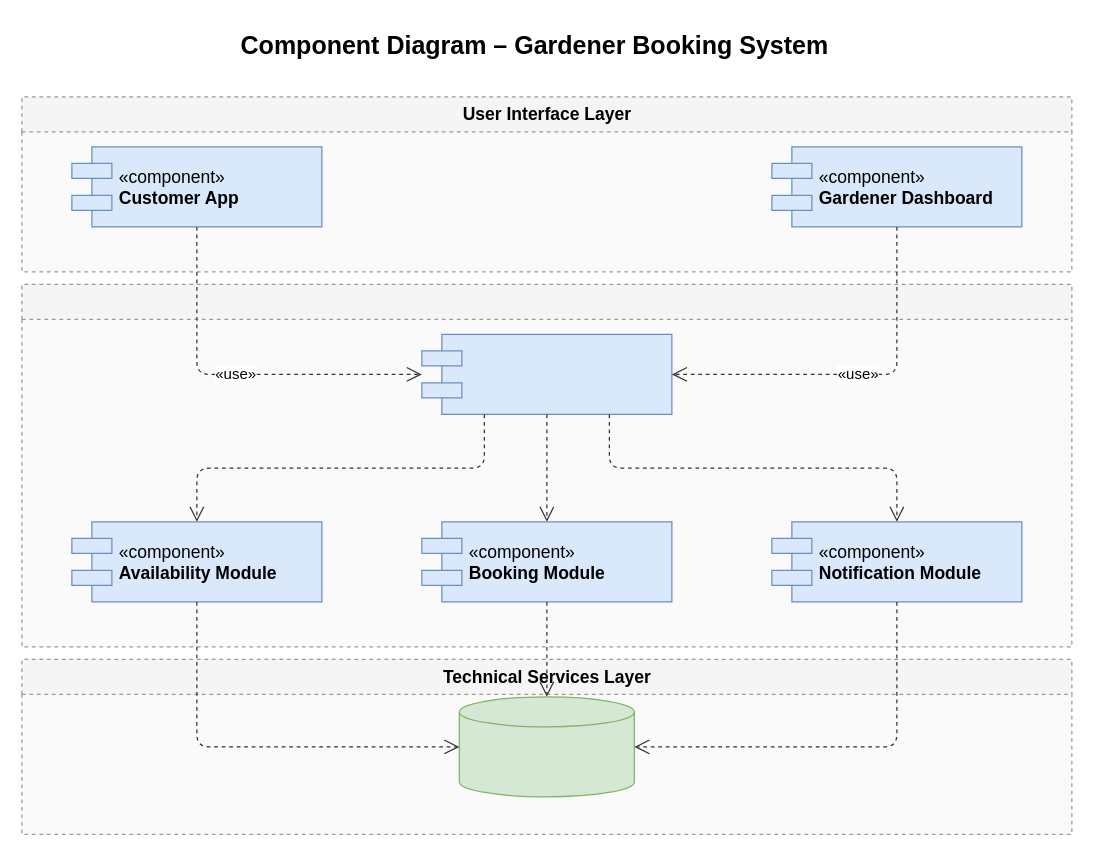
The diagram is 1094 pixels wide and 856 high, and some of its shapes have lost their labels. Each missing label, with the box of its shape:
Appointment DB: (458, 696, 634, 797)
Domain Layer: (21, 283, 1072, 647)
«component» Gardener Booking System: (421, 333, 672, 414)
